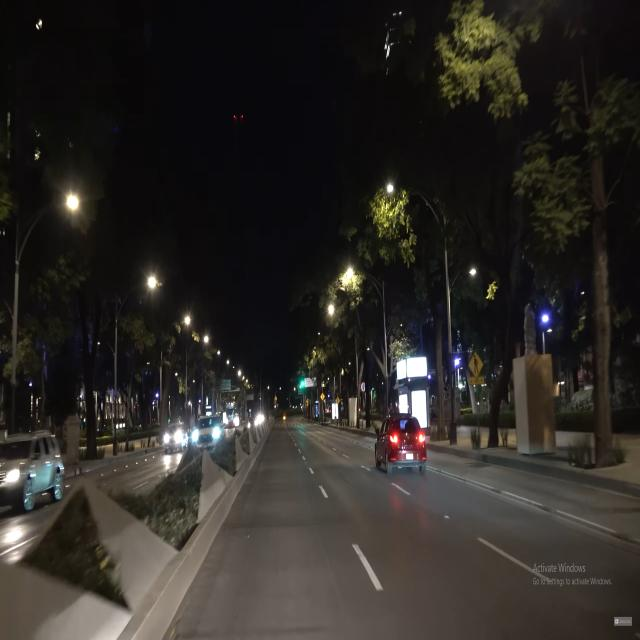headlights: (188, 421, 225, 450), (158, 423, 187, 455)
